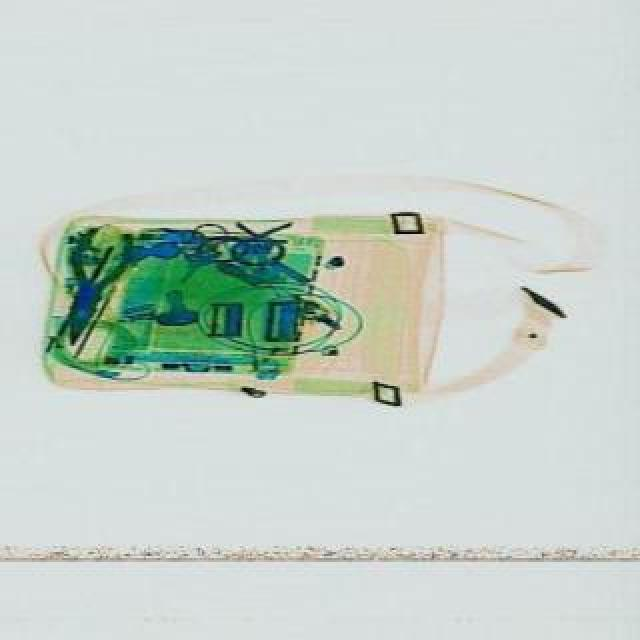wrench: (46, 224, 146, 356)
